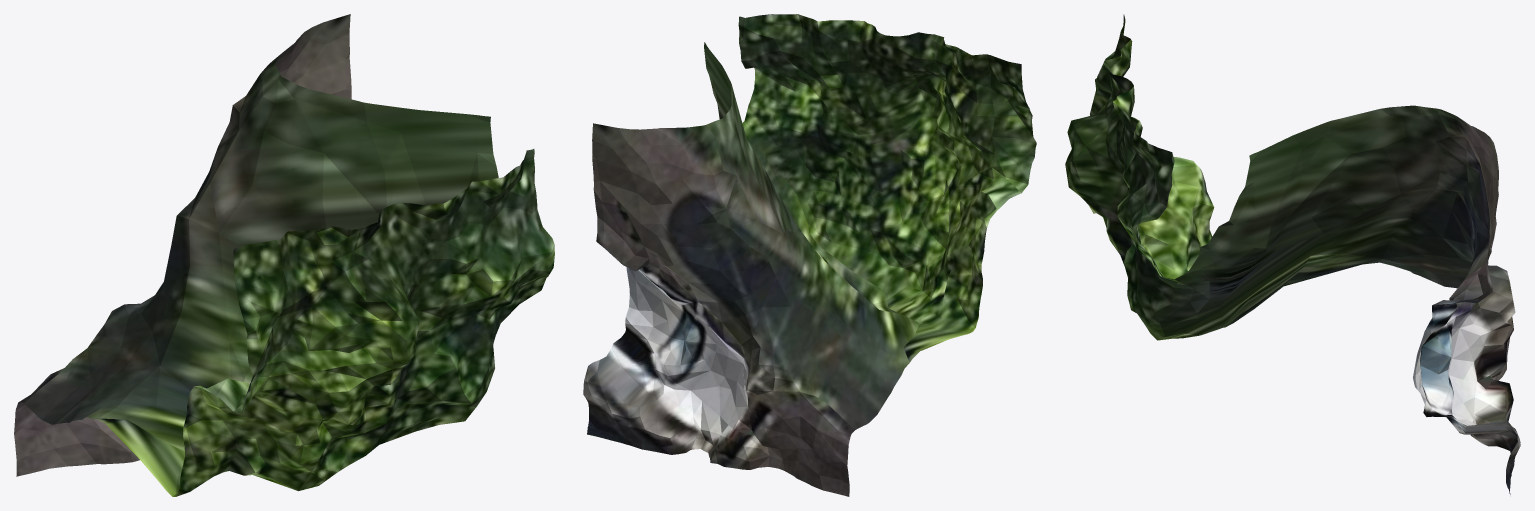
File: tile_5_10_4_tex.obj
3 renders of one model, left to right at view 1: azimuth 30°, elevation 25°; view 2: azimuth 150°, elevation 25°; view 3: azimuth 270°, elevation 25°, orthographic. The views are drawn at different scales.
Parts seen in each view (by area): view 1: obj_0; view 2: obj_0; view 3: obj_0.
Part boxes in pixels (x1,y1,x2,y2): obj_0: (14,14,554,496); obj_0: (583,14,1036,496); obj_0: (1065,14,1520,494).
Size of the model in its own units: 5.01 by 5.64 by 6.81.
1 material, 1 textured.
